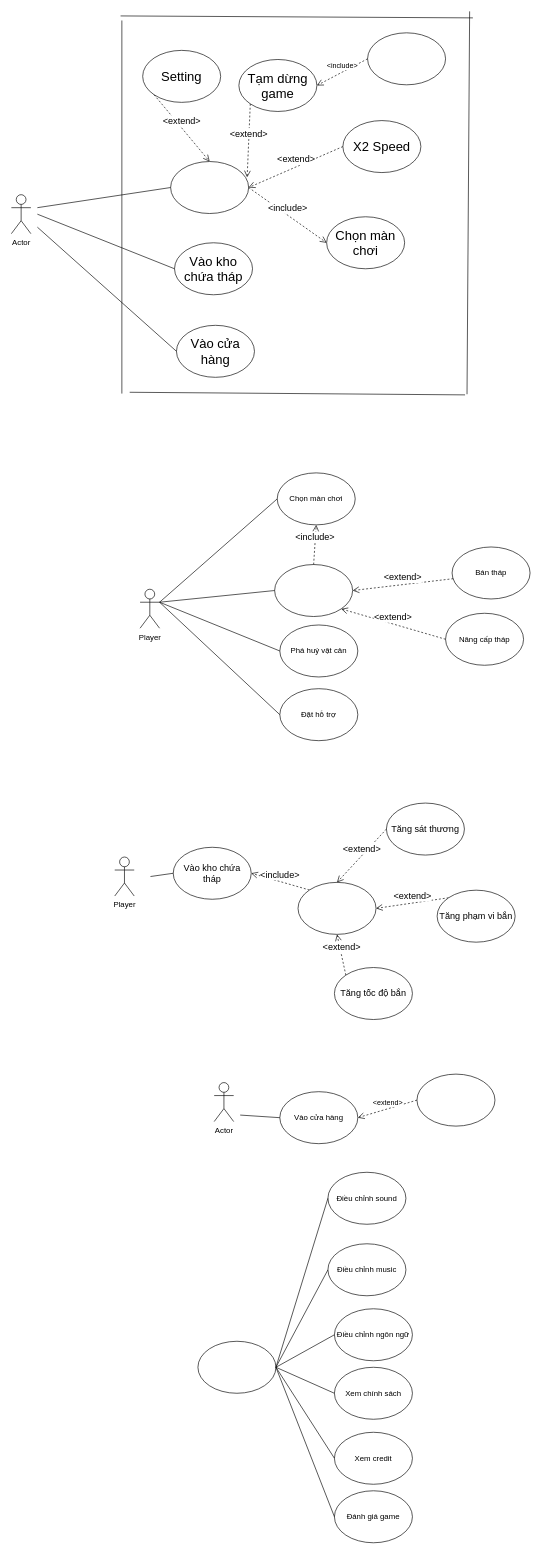
This 541x1554 diagram has some shape labels left out. Each missing label, with the centre of its shape:
Chiến đâu: (x=209, y=187)
Chọn tháp: (x=336, y=908)
Cài đặt game: (x=236, y=1367)
Mua them vang: (x=455, y=1099)
Tiếp tục game: (x=406, y=58)
Xây tháp: (x=313, y=590)
